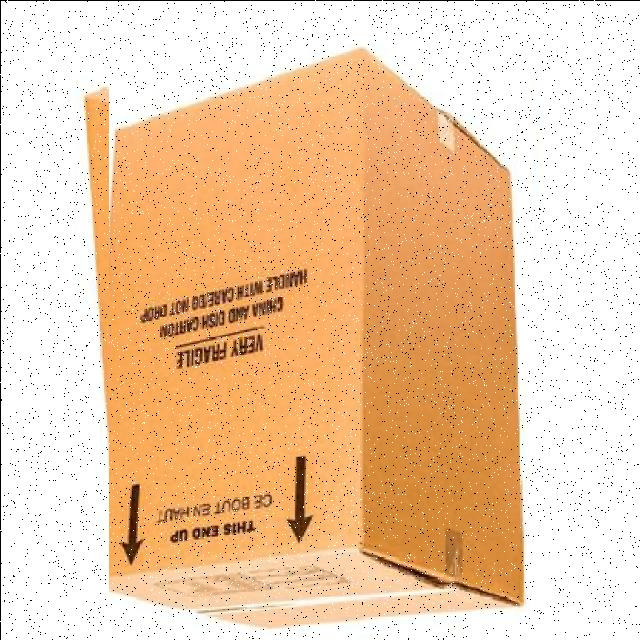normal: (108, 43, 529, 634)
